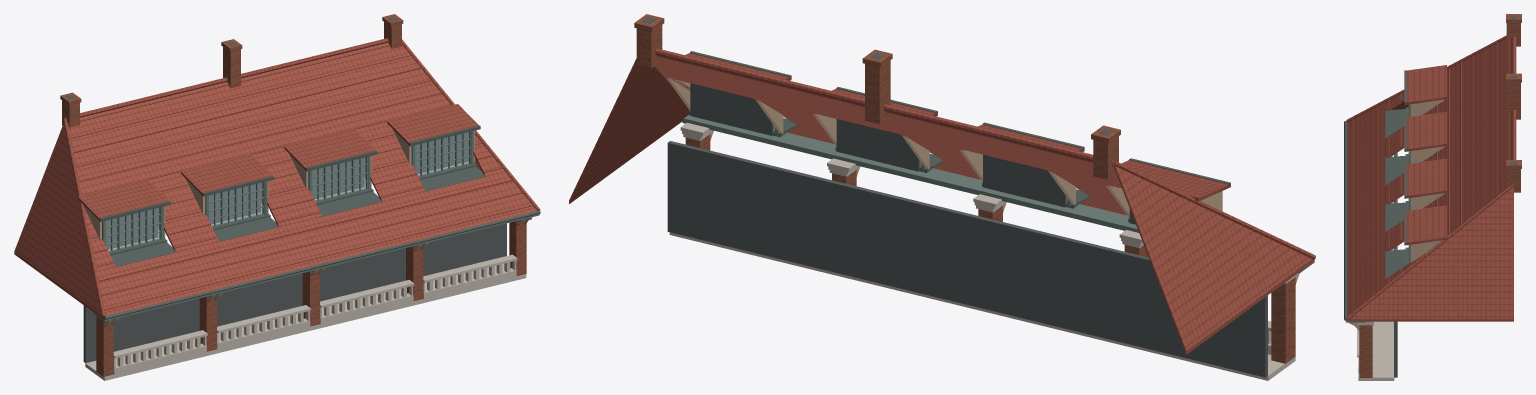
File: lod-source.glb
3 renders of one model, left to right at view 1: azimuth 30°, elevation 25°; view 2: azimuth 150°, elevation 25°; view 3: azimuth 270°, elevation 25°, orthographic. The views are drawn at different scales.
Visible parts, largest first — view 1: 新华村14号楼南坡四座老虎窗; view 2: 新华村14号楼南坡四座老虎窗; view 3: 新华村14号楼南坡四座老虎窗.
Boxes of the visible parts, x1,y1,x2,y2 form: 新华村14号楼南坡四座老虎窗: (14,14,540,380); 新华村14号楼南坡四座老虎窗: (569,14,1315,380); 新华村14号楼南坡四座老虎窗: (1344,14,1521,380).
Size of the model in its own units: 20.27 by 9.94 by 7.67.
8 materials, 2 textured.
